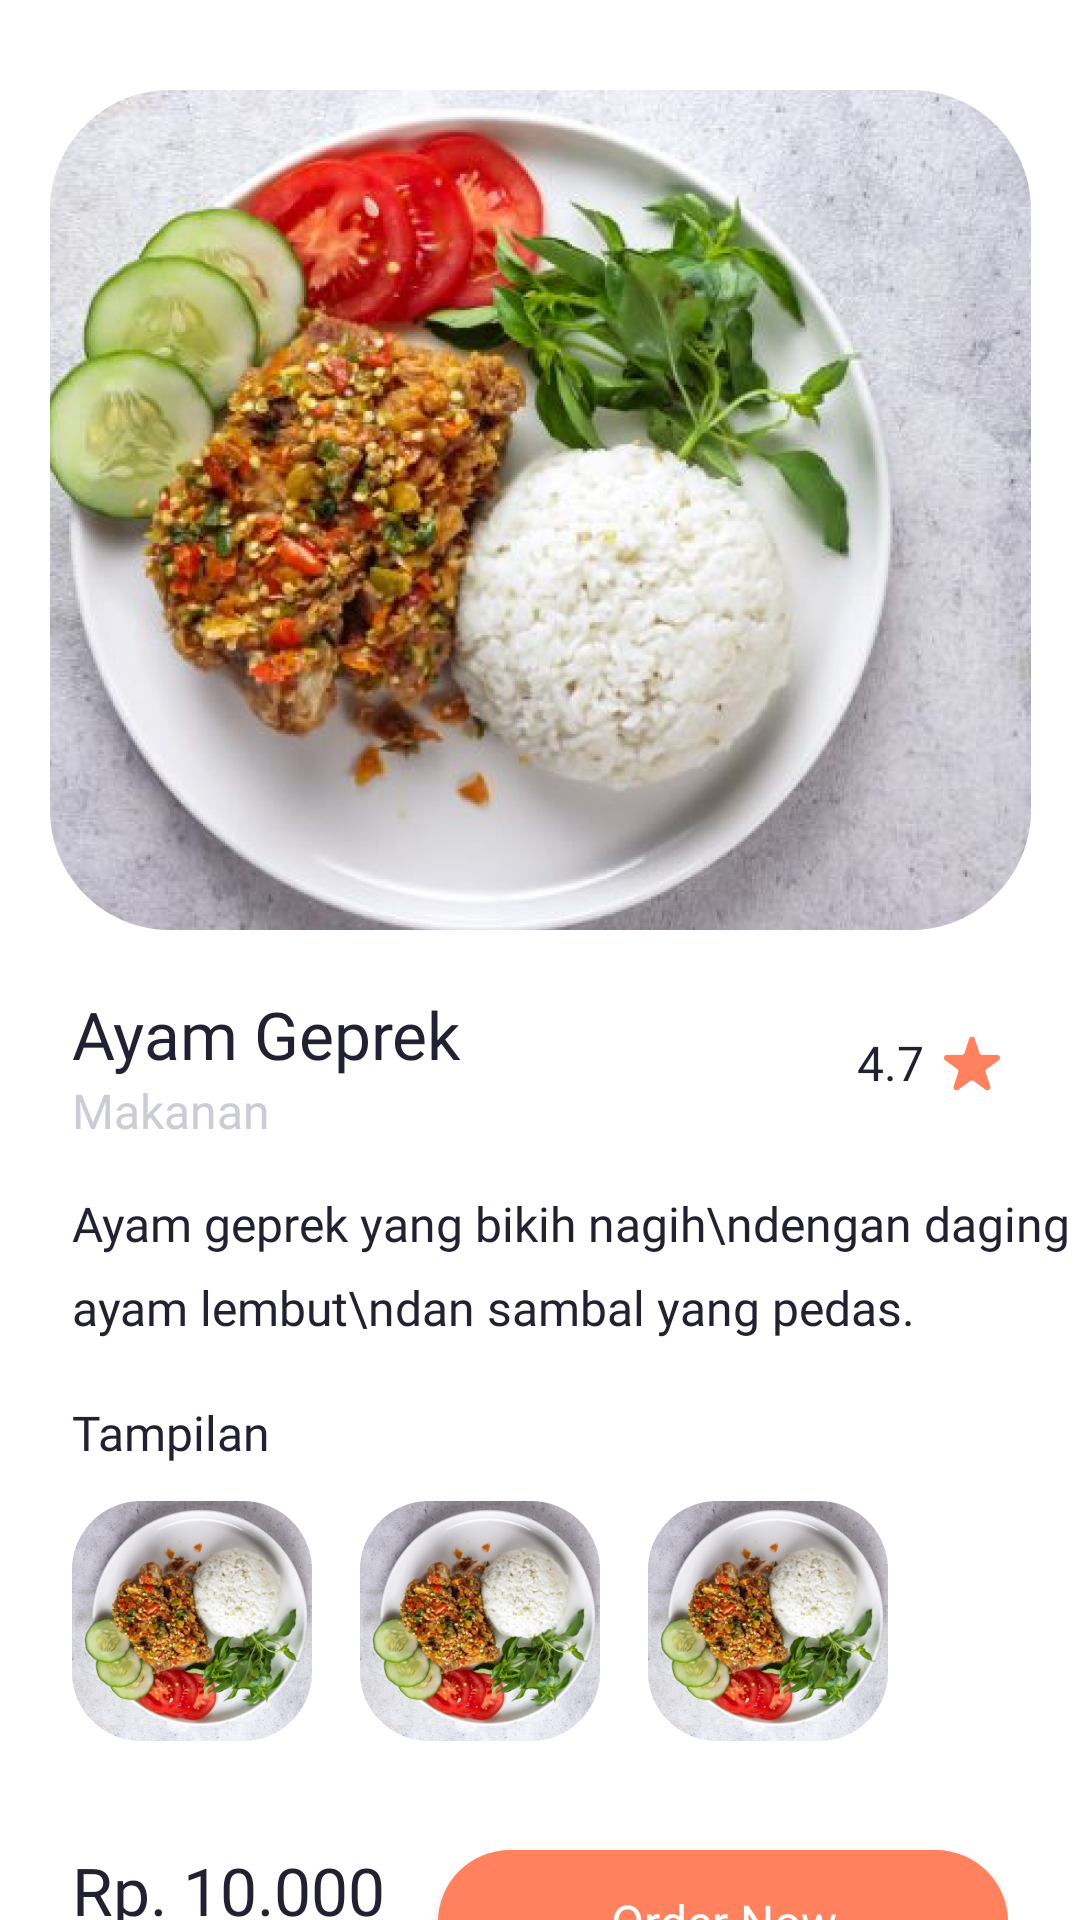

Screen size 1080x1920. Icon name, then its box in pixels as (x1, y1, x2, y2):
star: (944, 1036, 1000, 1091)
